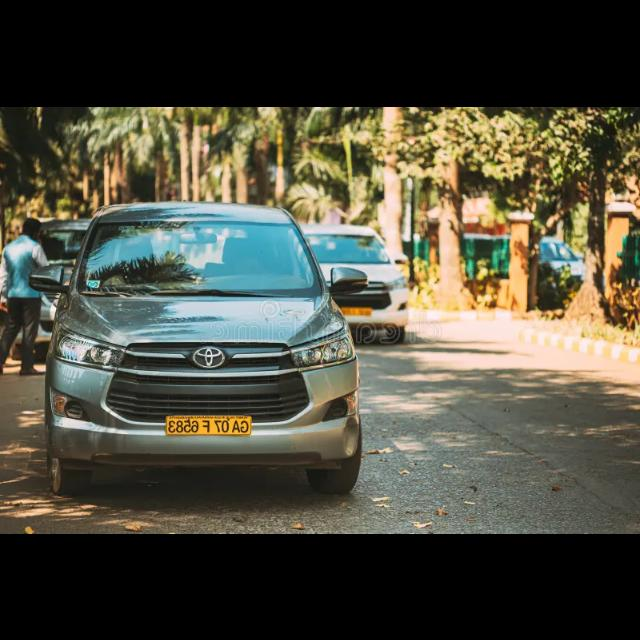number-plate: (164, 408, 253, 440)
vehicles: (38, 207, 358, 498), (297, 223, 411, 342)
